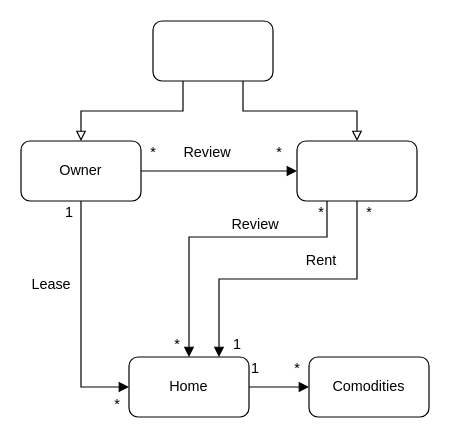
The diagram is 450 pixels wide and 438 high, and some of its shapes have lost their labels. The shapes that lost their labels are listed below. From the top down, each one's centre as x and y in pixels, then its label:
At pixel 212 50: "User".
At pixel 356 170: "Client".
